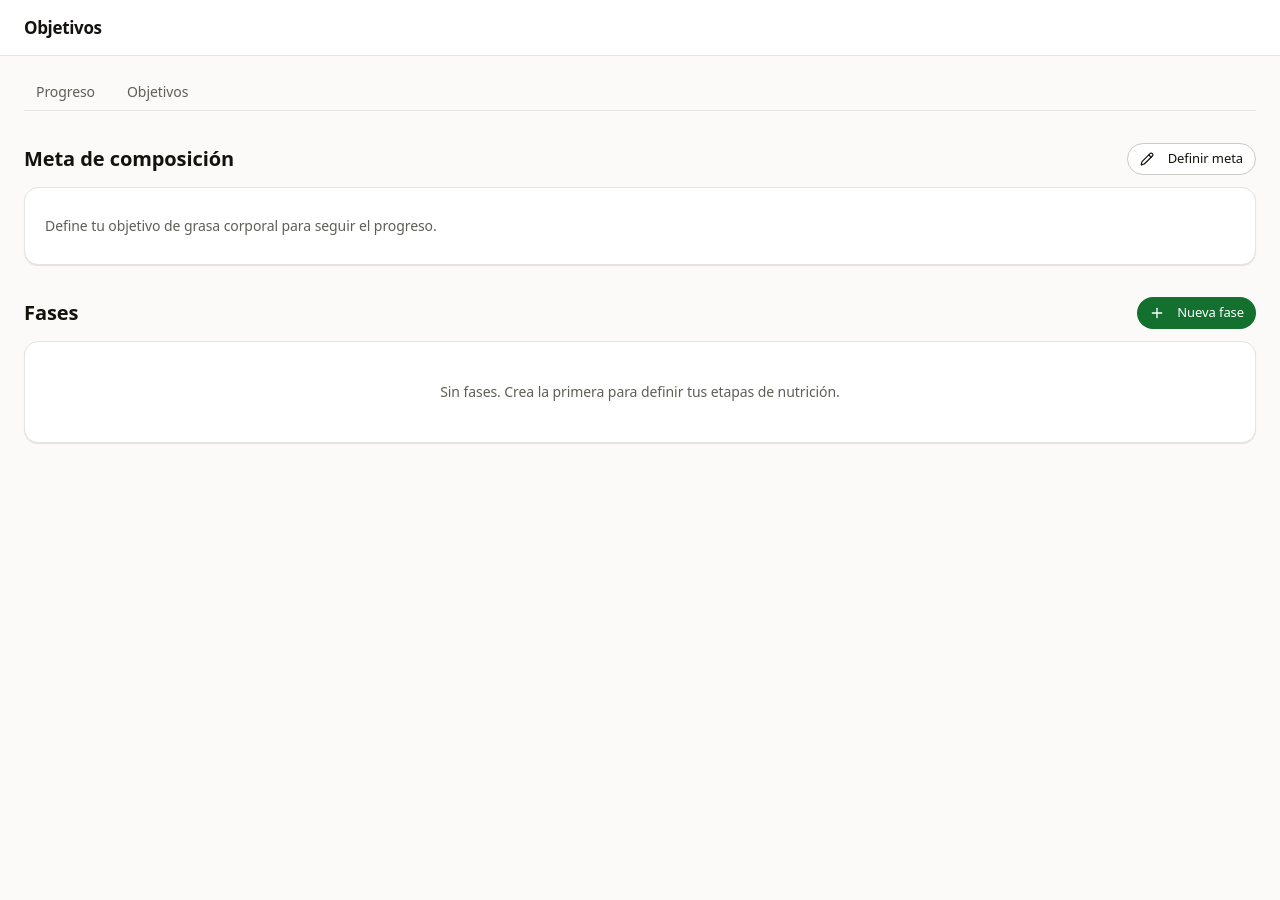
Test: ObjetivosPage — goal dialog (Tier-2) › rejects a target body fat % outside 3–50 (the gate the DOM used to own)
Step 1. Click the button "Definir meta" → (1191, 159), box [1127, 143, 1256, 175]
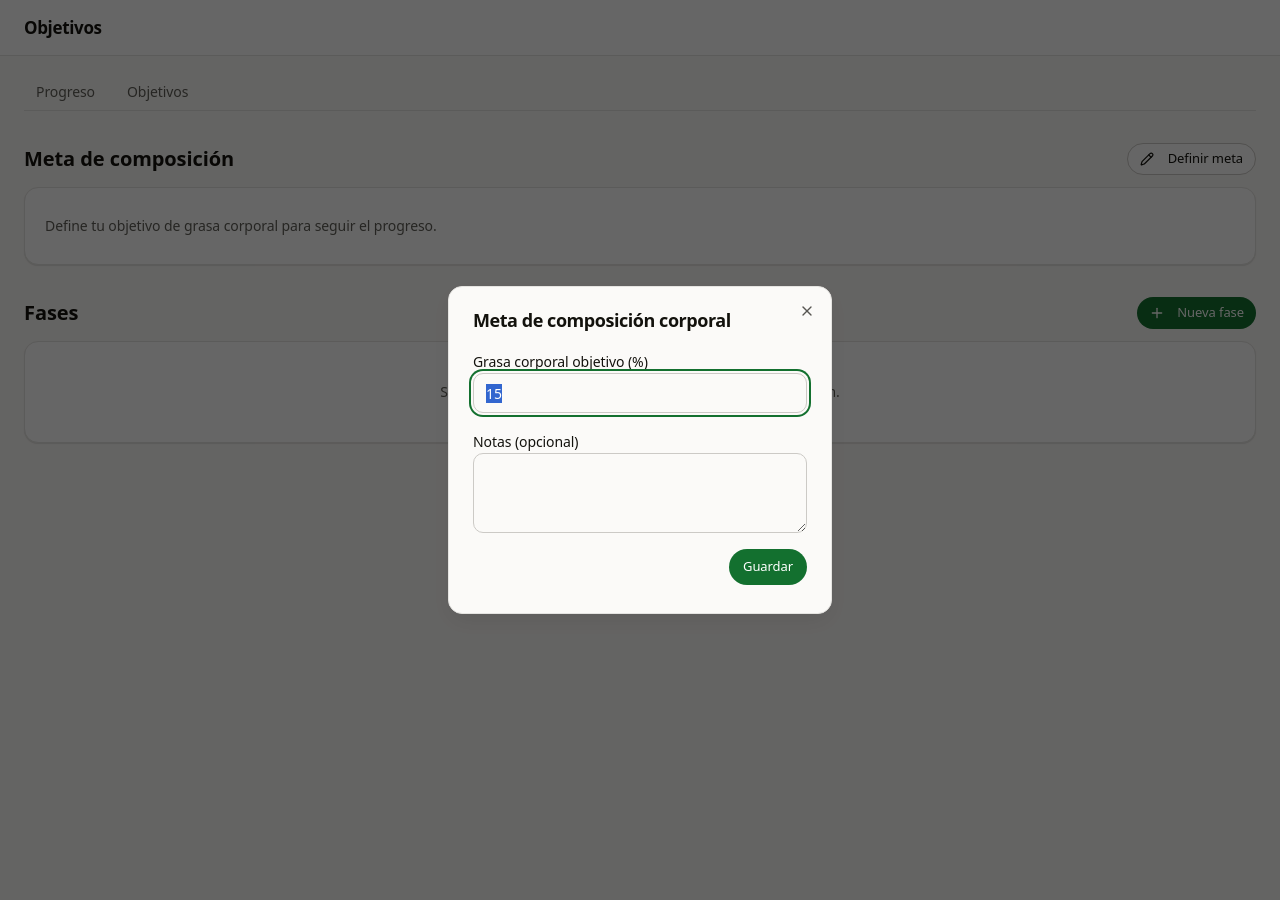
Step 2. Replace the text in the field labelled "Grasa corporal objetivo (%)" with "60" → (640, 393), box [473, 373, 807, 413]
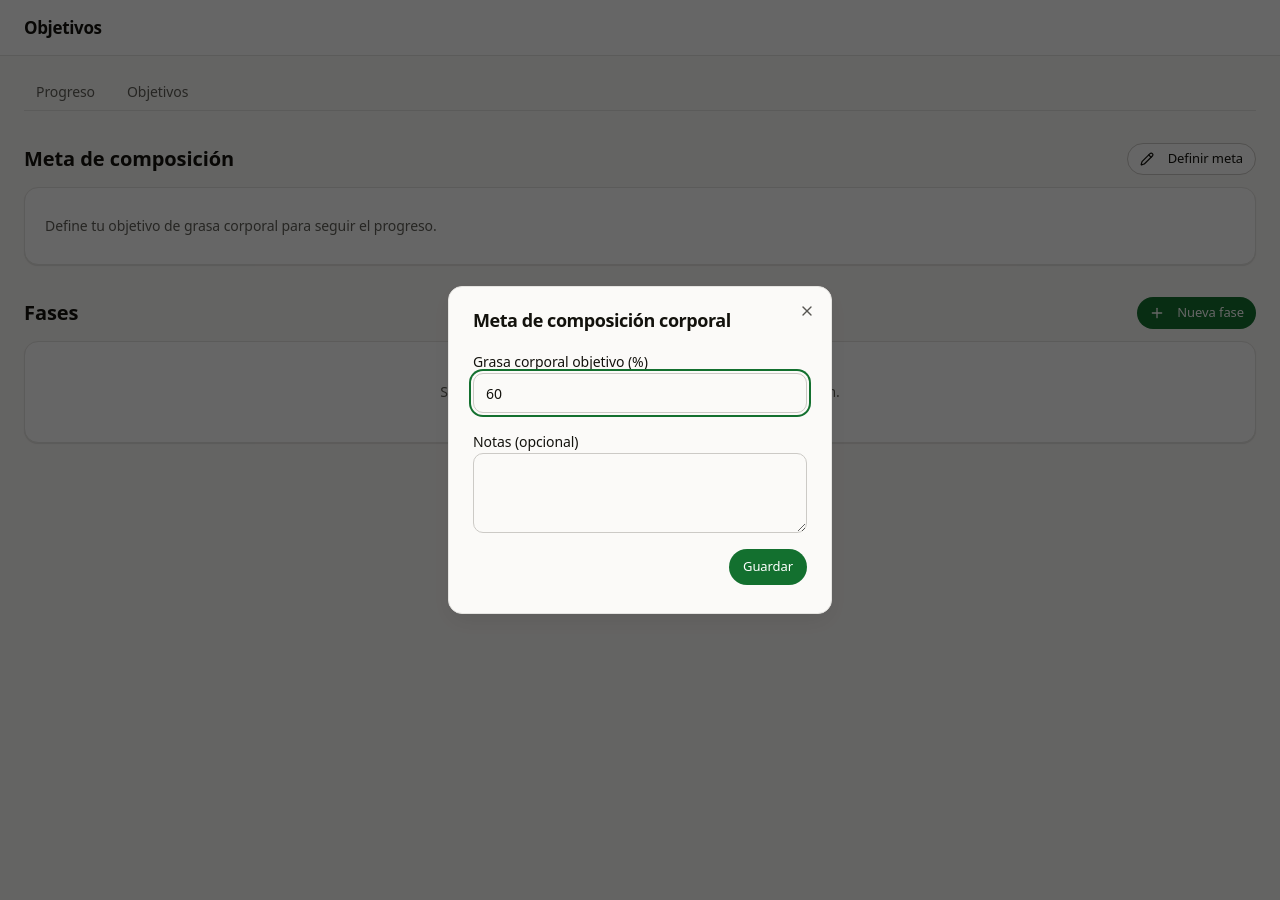
Step 3. Click the button "Guardar" → (768, 567), box [729, 549, 807, 585]
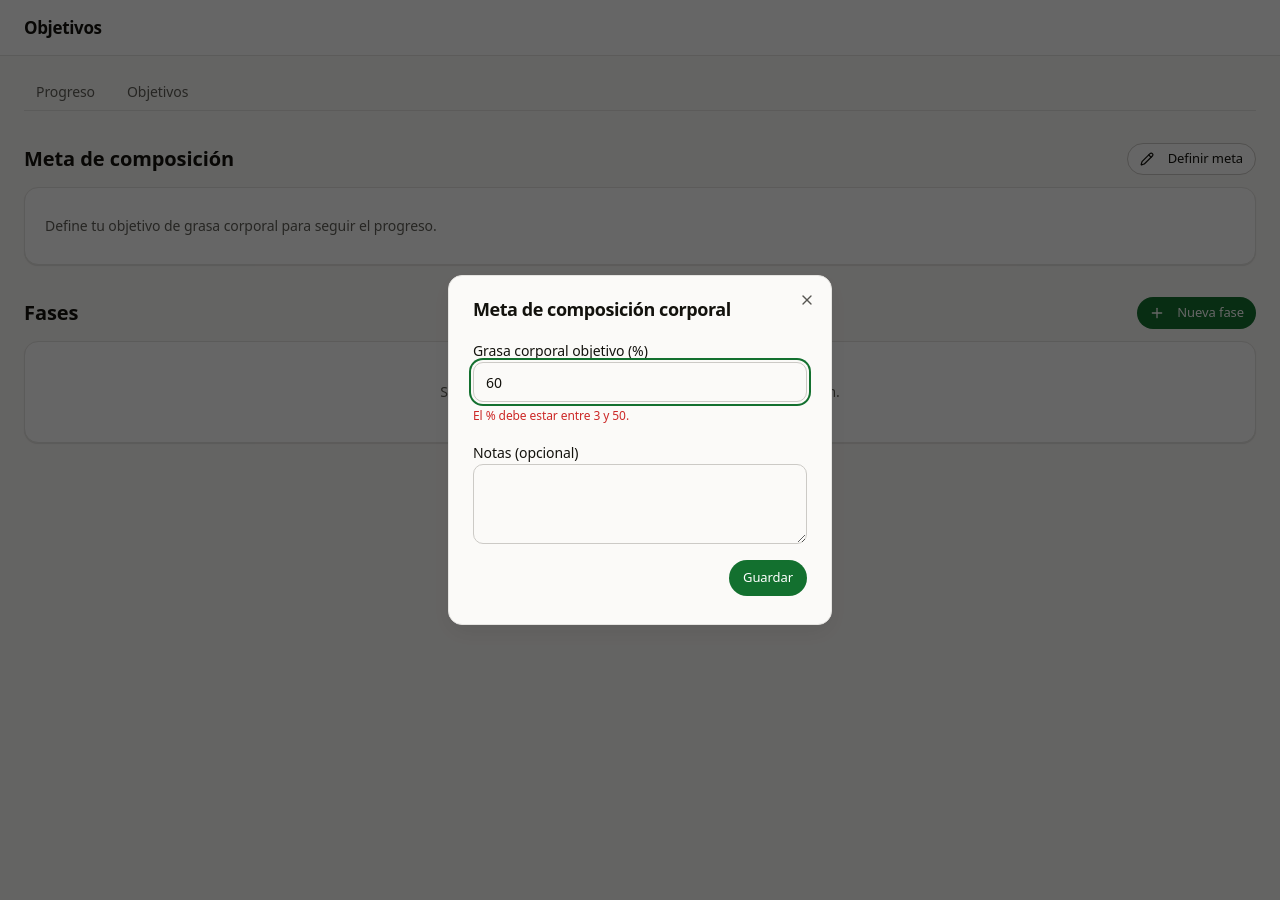
Now the text "El % debe estar entre 3 y 50." is shown, box [473, 407, 629, 424]
